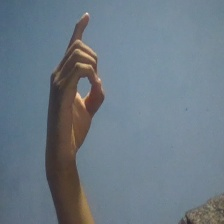D: (40, 11, 108, 158)
